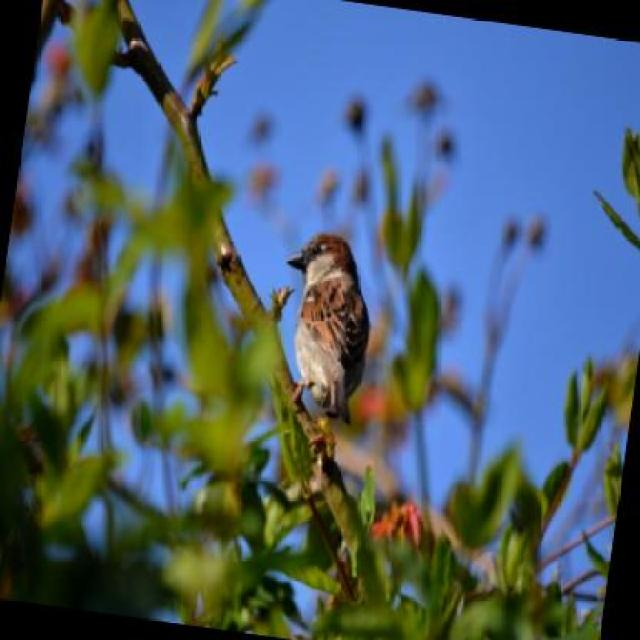sparrow: (268, 224, 382, 419)
